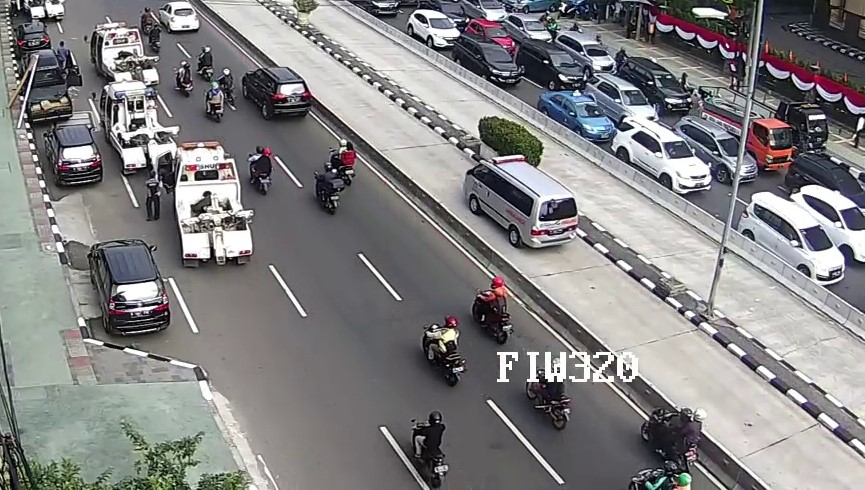car: (464, 153, 574, 252), (173, 142, 252, 269), (736, 196, 842, 287), (724, 82, 827, 163), (610, 119, 712, 198), (93, 241, 173, 340), (701, 97, 790, 174), (102, 83, 177, 174), (668, 116, 755, 190), (787, 184, 865, 266), (785, 155, 865, 220), (92, 23, 158, 94), (534, 87, 612, 143), (622, 57, 689, 122), (587, 75, 659, 134), (451, 34, 522, 89), (242, 68, 309, 123), (45, 124, 103, 186), (516, 40, 585, 92), (555, 31, 616, 84), (25, 69, 74, 130), (407, 8, 460, 51), (469, 19, 515, 60), (507, 15, 552, 47), (160, 1, 201, 33), (16, 24, 52, 60)
motorbike: (641, 404, 700, 476), (528, 356, 568, 434), (413, 411, 450, 488), (472, 277, 510, 348), (426, 318, 462, 387), (330, 139, 356, 191), (248, 144, 272, 197), (316, 165, 338, 215), (174, 61, 193, 98), (206, 82, 223, 120), (197, 46, 213, 80), (219, 68, 234, 103), (149, 25, 161, 53), (143, 8, 153, 38)
